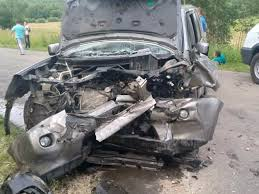car: (16, 14, 237, 170)
